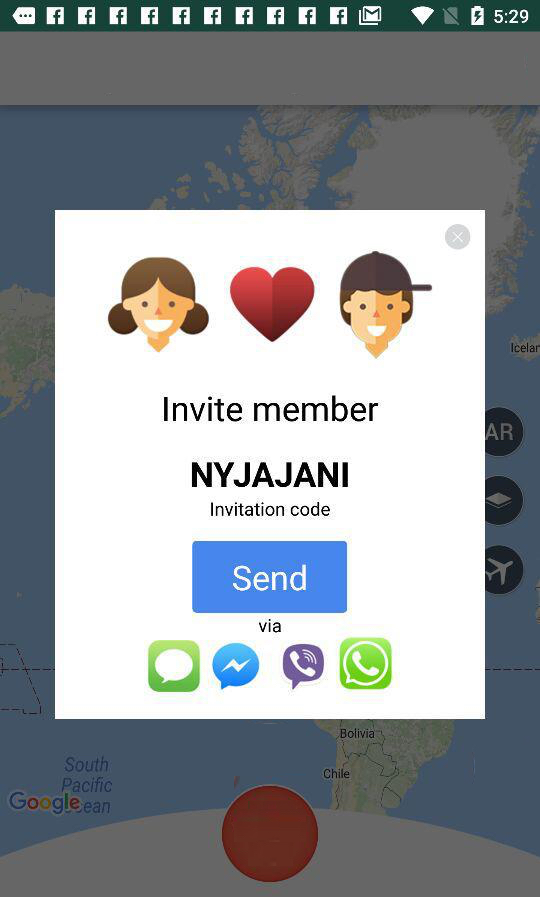Icon: (148, 640, 201, 693), (445, 225, 472, 250)
Image: (108, 252, 432, 360), (340, 637, 393, 691), (213, 642, 260, 691), (283, 645, 324, 689)
Modal: (56, 211, 485, 719)
Text: (163, 396, 382, 423), (191, 461, 349, 488), (210, 502, 331, 518), (259, 619, 283, 633)
TextButton: (192, 541, 348, 613)
UpperTaskBar: (1, 1, 540, 33)
